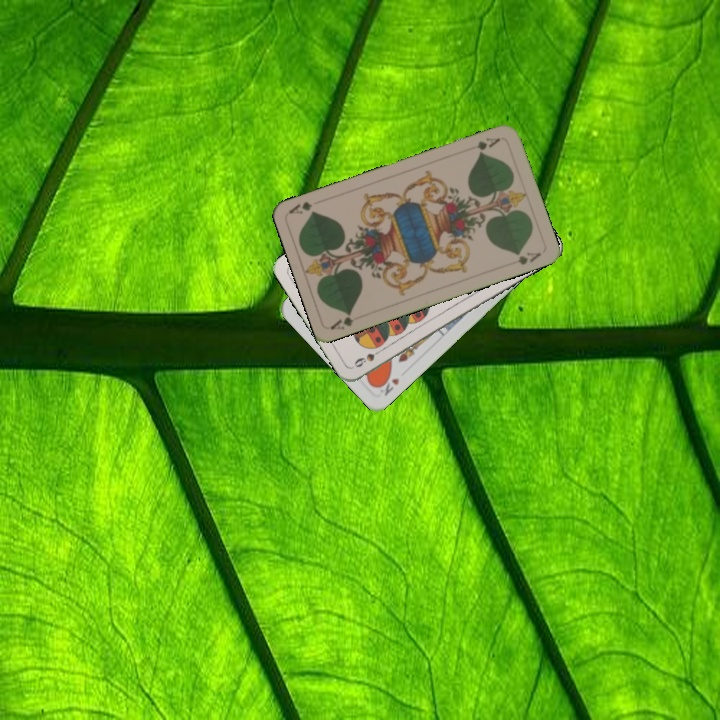GA: (327, 309, 356, 332), (473, 134, 503, 156)
HK: (374, 371, 402, 399)
S9: (350, 344, 387, 370)
